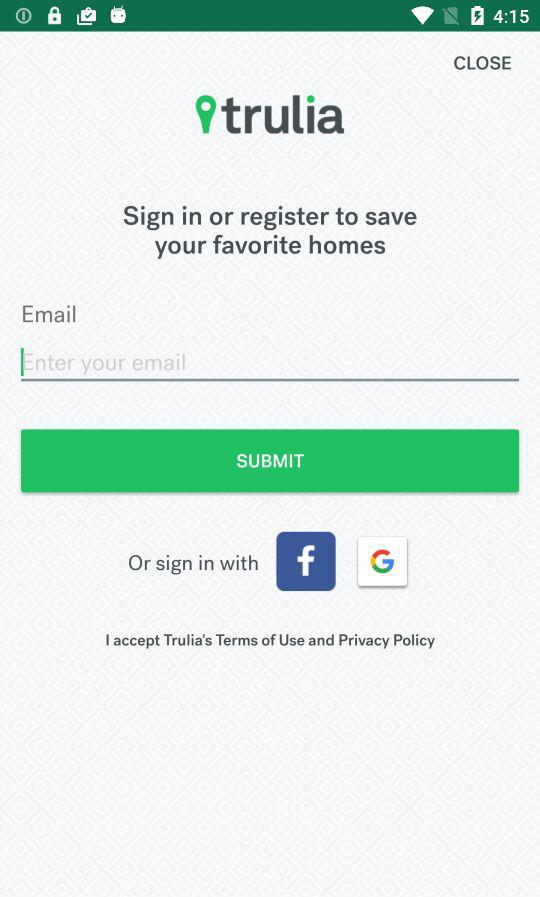EditText: (21, 348, 519, 383)
Icon: (277, 532, 337, 592), (357, 536, 408, 587)
Image: (196, 95, 345, 135)
Text: (124, 206, 418, 260), (106, 633, 436, 650), (25, 353, 187, 376), (129, 555, 259, 576), (24, 305, 77, 323), (454, 57, 512, 72)
TextButton: (21, 429, 519, 493)
UpperTaskBar: (1, 1, 540, 33)
